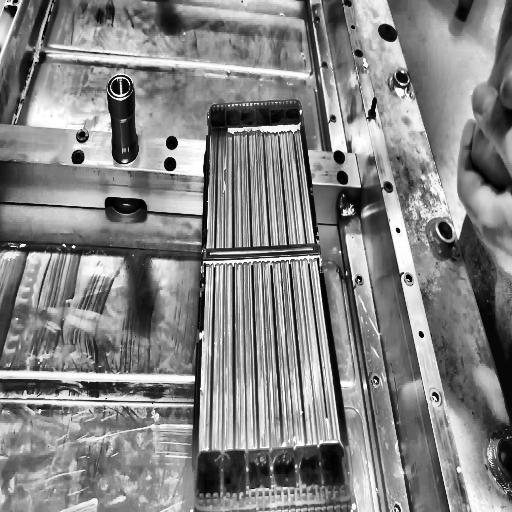battery_module: (195, 93, 354, 512)
